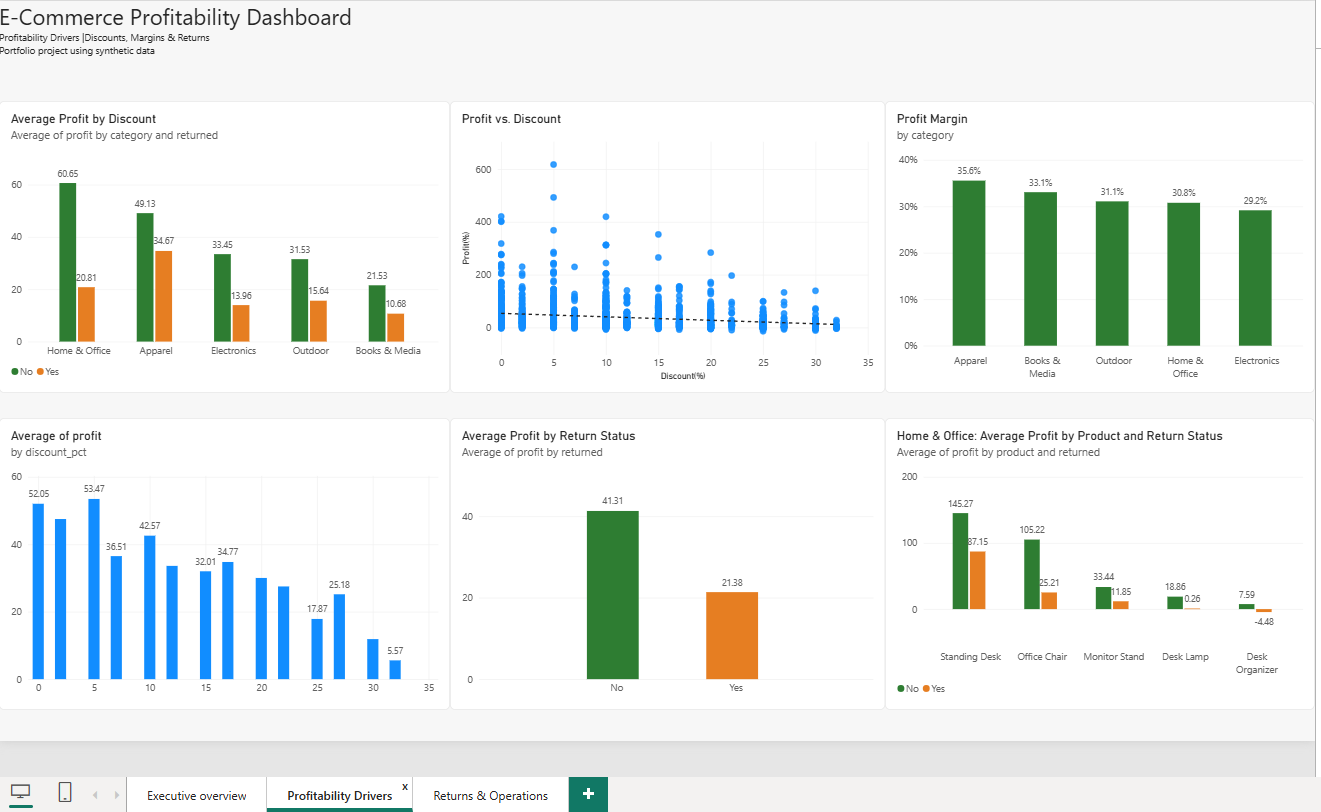

The dashboard page shown, as its layout file describes it:
{"tool":"powerbi","page":{"name":"Profitability Drivers","canvas":[1920,1080],"ordinal":1},"visuals":[{"type":"clusteredColumnChart","fields":{"Category":["Ecommerce.category"],"Y":["Ecommerce.Profit Margin"]},"box":[1292.6,145.9,627.4,426],"z":0},{"type":"clusteredColumnChart","fields":{"Category":["Ecommerce.discount_pct"],"Y":["Avg(Ecommerce.profit)"]},"box":[0,608.4,658,426],"z":1000},{"type":"scatterChart","title":"Profit vs. Discount","fields":{"Category":["Ecommerce.order_id"],"X":["Sum(Ecommerce.discount_pct)"],"Y":["Sum(Ecommerce.profit)"]},"box":[658,145.9,634.7,426],"z":2000},{"type":"clusteredColumnChart","title":"Average Profit by Return Status","fields":{"Category":["Ecommerce.returned"],"Y":["Avg(Ecommerce.profit)"]},"box":[658,608.4,634.7,426],"z":3000},{"type":"clusteredColumnChart","title":"Average Profit by Discount","fields":{"Category":["Ecommerce.category"],"Series":["Ecommerce.returned"],"Y":["Avg(Ecommerce.profit)"]},"box":[0,145.9,658,426],"z":4000},{"type":"clusteredColumnChart","title":"Home & Office: Average Profit by Product and Return Status","fields":{"Category":["Ecommerce.product"],"Series":["Ecommerce.returned"],"Y":["Avg(Ecommerce.profit)"]},"box":[1292.6,608.4,627.4,426],"z":5000},{"type":"textbox","box":[0,0,523.8,91.9],"z":5001}]}

Visuals, with their boxes on the page's 1920x1080 design canvas (x1, y1, x2, y2). These are canvas units, not pixel positions in the 1321x812 screenshot, which may show the page scaled, cropped or inside an application window:
clusteredColumnChart - Ecommerce.category x Ecommerce.Profit Margin: {"left": 1293, "top": 146, "right": 1920, "bottom": 572}
clusteredColumnChart - Ecommerce.discount_pct x Avg(Ecommerce.profit): {"left": 0, "top": 608, "right": 658, "bottom": 1034}
"Profit vs. Discount" scatterChart: {"left": 658, "top": 146, "right": 1293, "bottom": 572}
"Average Profit by Return Status" clusteredColumnChart: {"left": 658, "top": 608, "right": 1293, "bottom": 1034}
"Average Profit by Discount" clusteredColumnChart: {"left": 0, "top": 146, "right": 658, "bottom": 572}
"Home & Office: Average Profit by Product and Return Status" clusteredColumnChart: {"left": 1293, "top": 608, "right": 1920, "bottom": 1034}
textbox: {"left": 0, "top": 0, "right": 524, "bottom": 92}
